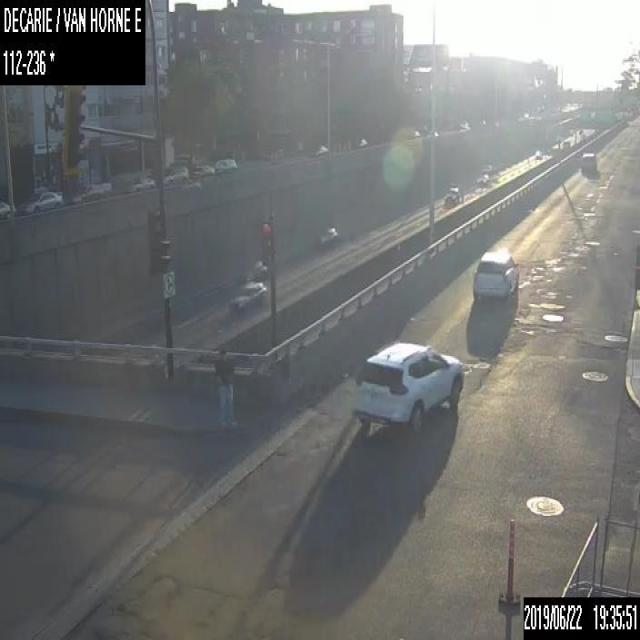construction: (496, 515, 520, 608)
pedestrian: (215, 350, 232, 426)
vehicle: (354, 339, 464, 432), (471, 249, 519, 299), (232, 280, 266, 313), (72, 180, 110, 201), (20, 192, 62, 211), (128, 171, 156, 189), (161, 164, 187, 183), (442, 186, 462, 206), (189, 162, 213, 178), (319, 227, 337, 245), (212, 158, 235, 172), (580, 151, 595, 172), (309, 144, 326, 155), (349, 137, 366, 147), (0, 200, 10, 216), (476, 173, 488, 184), (405, 129, 419, 138), (534, 150, 542, 160)
